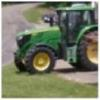tractors: (13, 4, 99, 76)
